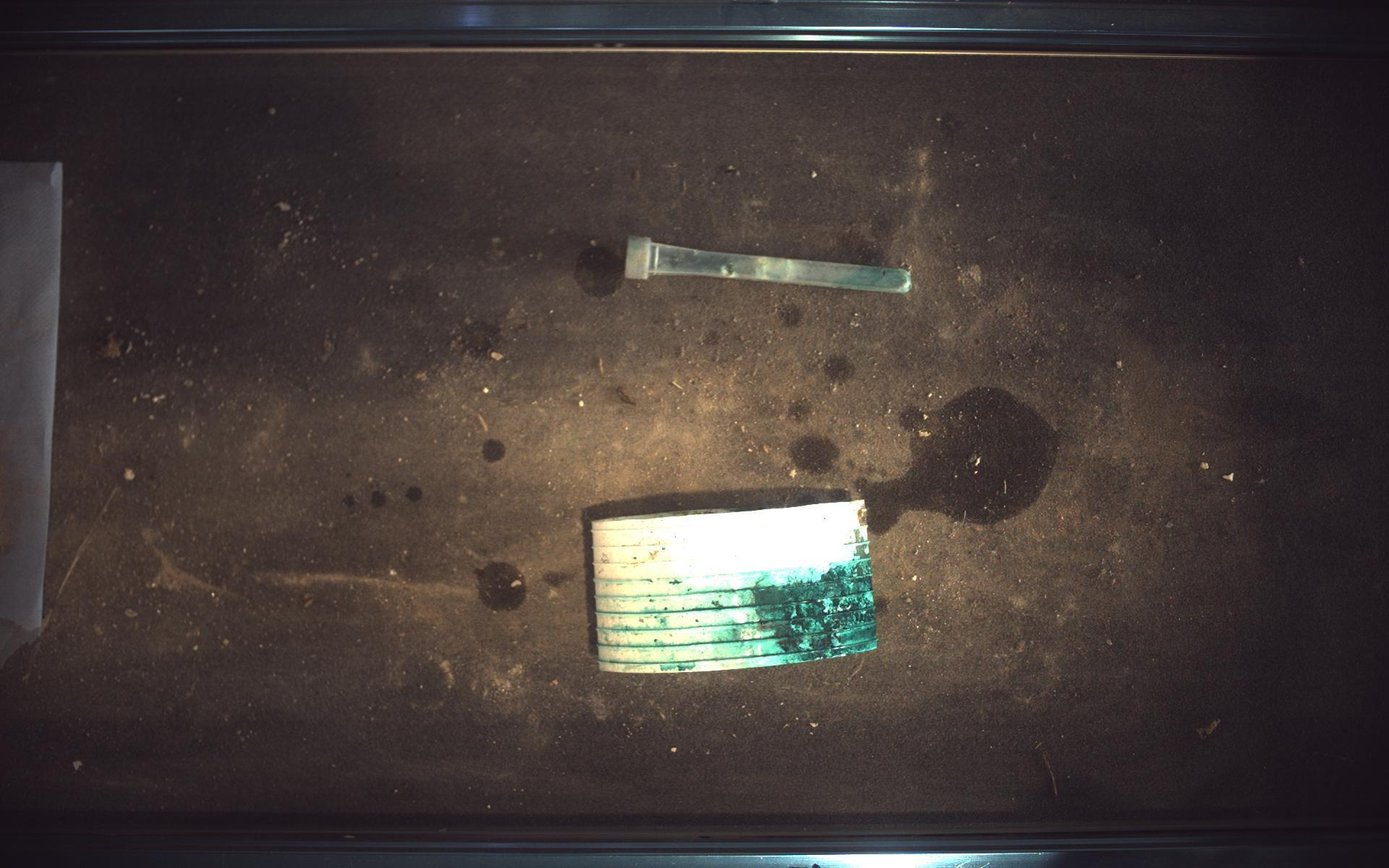plastic: (584, 490, 878, 674), (626, 235, 913, 292)
